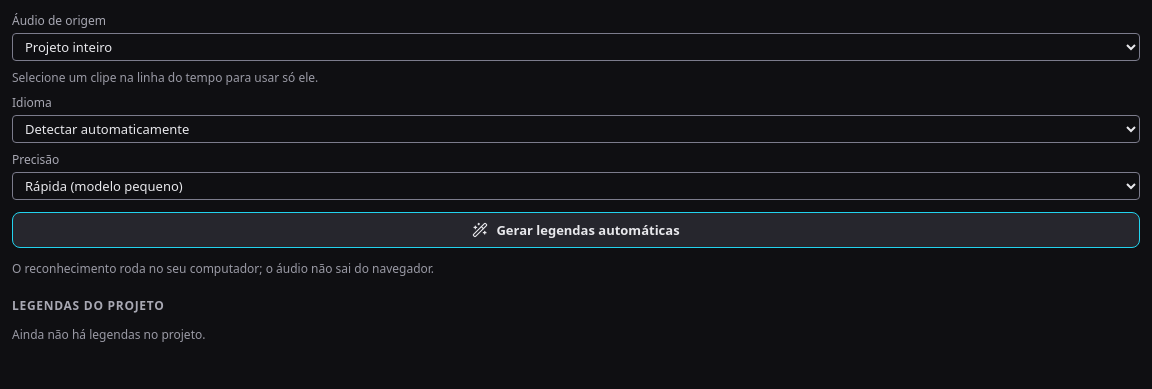
Test case: CaptionsTab › mostra o erro em alerta quando a transcrição falha
Click the button "Gerar legendas automáticas" at (576,230), box [12,212,1140,248]
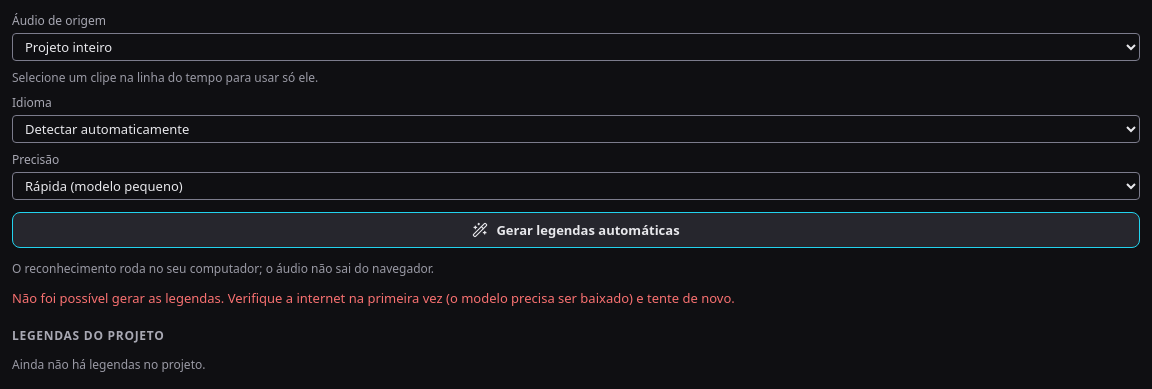
Now the message shows "Não foi possível gerar as legendas. Verifique a internet na primeira vez (o modelo precisa ser baixado) e tente de novo.", box [12,289,735,307]
